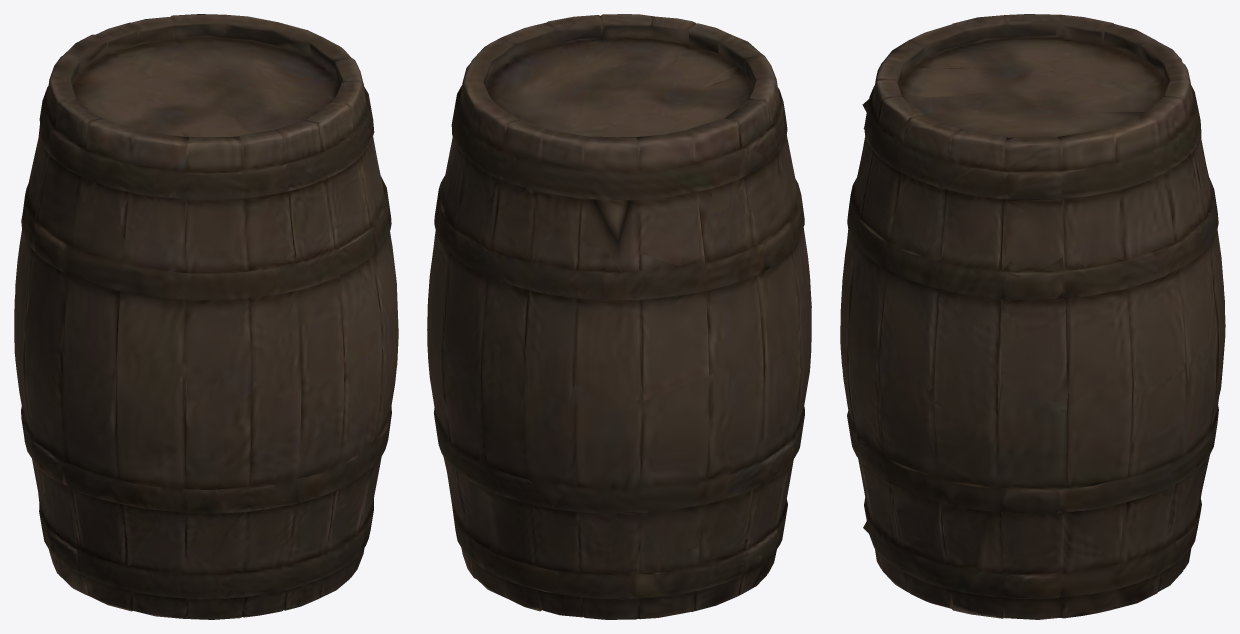
File: storage-barrel.glb
3 renders of one model, left to right at view 1: azimuth 30°, elevation 25°; view 2: azimuth 150°, elevation 25°; view 3: azimuth 270°, elevation 25°, orthographic.
Parts seen in each view (by area): view 1: tripo_node_fa0a54a8-3a25-464b-9d6f-87d58c76046e; view 2: tripo_node_fa0a54a8-3a25-464b-9d6f-87d58c76046e; view 3: tripo_node_fa0a54a8-3a25-464b-9d6f-87d58c76046e.
Part boxes in pixels (x1,y1,x2,y2): tripo_node_fa0a54a8-3a25-464b-9d6f-87d58c76046e: (14,14,398,619); tripo_node_fa0a54a8-3a25-464b-9d6f-87d58c76046e: (427,14,811,619); tripo_node_fa0a54a8-3a25-464b-9d6f-87d58c76046e: (840,14,1225,619).
Bounding box in the file's own units: 0.7279 × 1 × 0.7329.
1 material, 1 textured.
